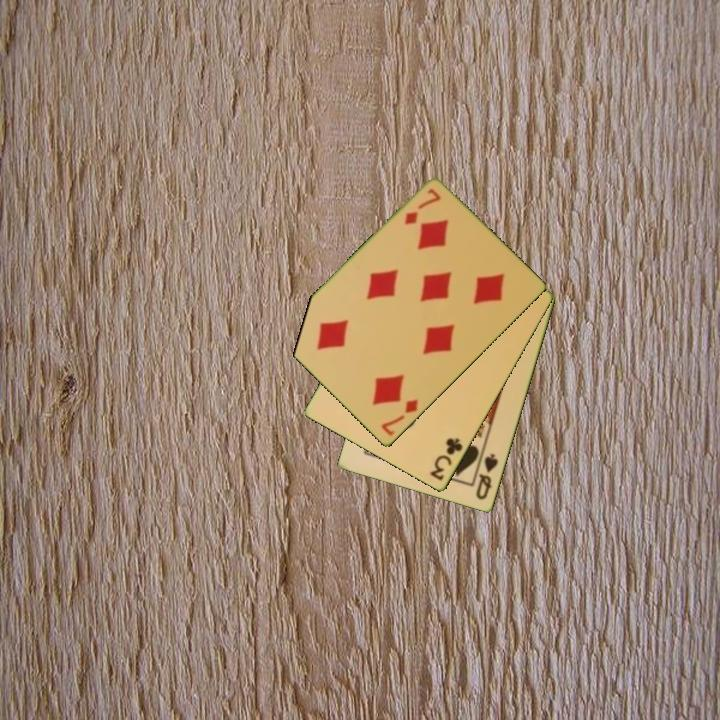3c: (426, 434, 466, 484)
7d: (378, 396, 421, 439), (401, 185, 443, 228)
Qs: (473, 450, 501, 503)
